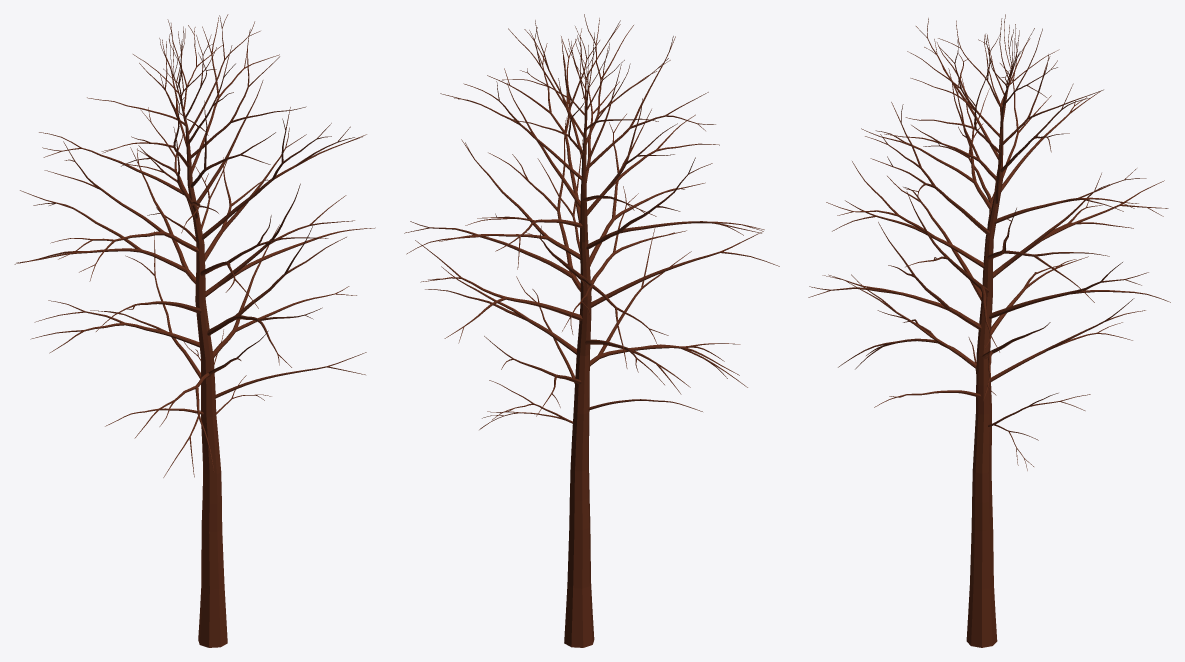
The model's file is bigLeavesTree.fbx.
3 views of the same model, side by side, from view 1: azimuth 30°, elevation 25°; view 2: azimuth 150°, elevation 25°; view 3: azimuth 270°, elevation 25° (orthographic). The views are drawn at different scales.
Parts seen in each view (by area): view 1: dryBigLeavesTree; view 2: dryBigLeavesTree; view 3: dryBigLeavesTree.
Boxes of the visible parts, box(x1,y1,x2,y2) form: dryBigLeavesTree: box(14, 14, 375, 647); dryBigLeavesTree: box(404, 14, 779, 647); dryBigLeavesTree: box(808, 14, 1170, 647).
Size of the model in its own units: 347 by 610 by 328.
